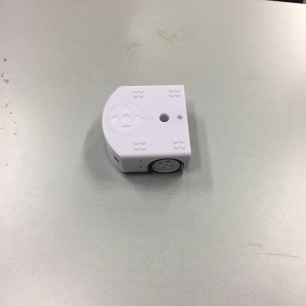thymio: (98, 78, 199, 181)
